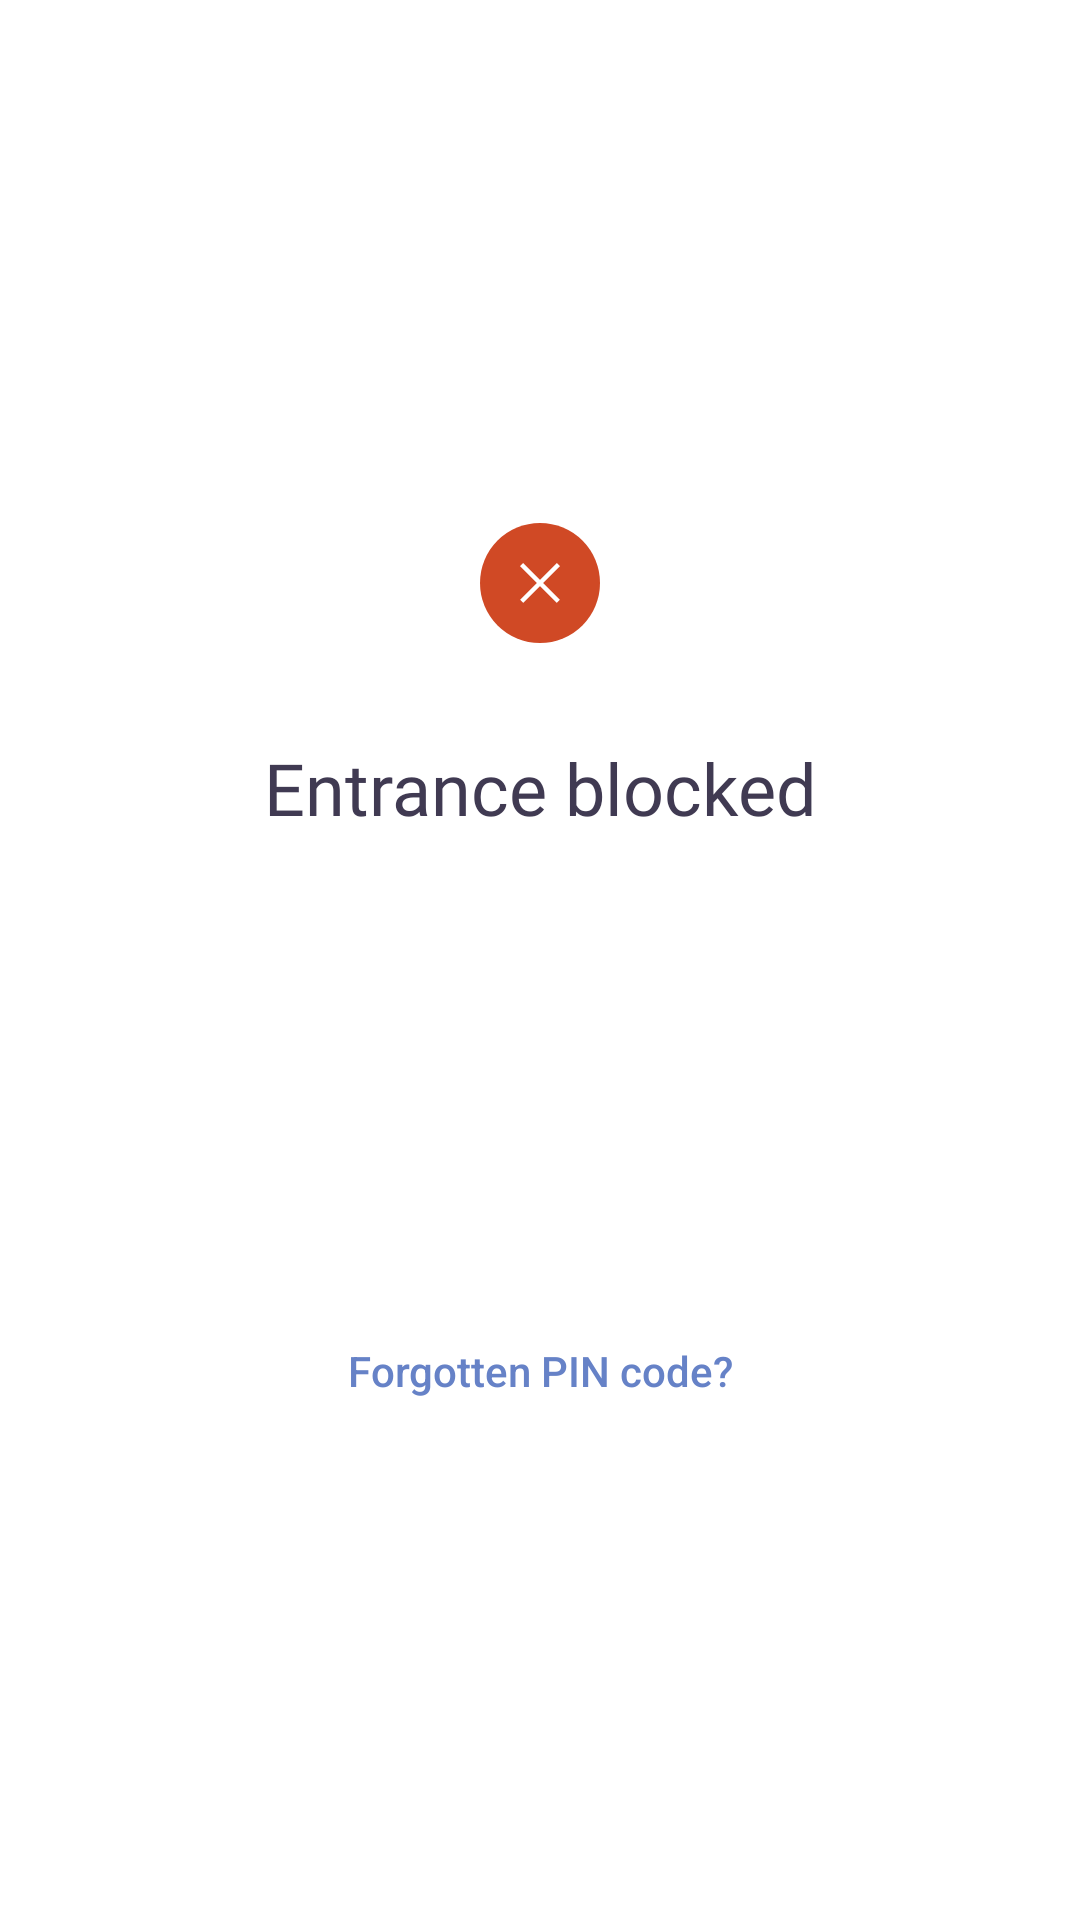

Icons on this 1080x1920 Android screen, each with the point to tap as (x=x, y=y):
error: (x=540, y=583)
